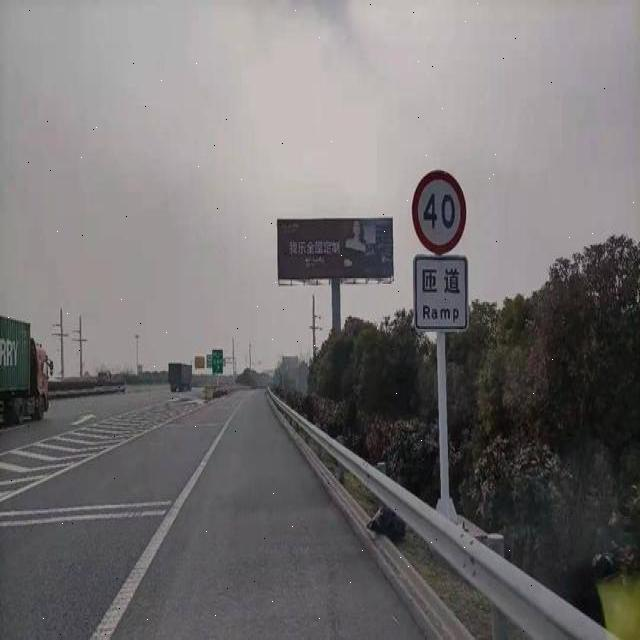speed limit 40: (412, 171, 467, 254)
